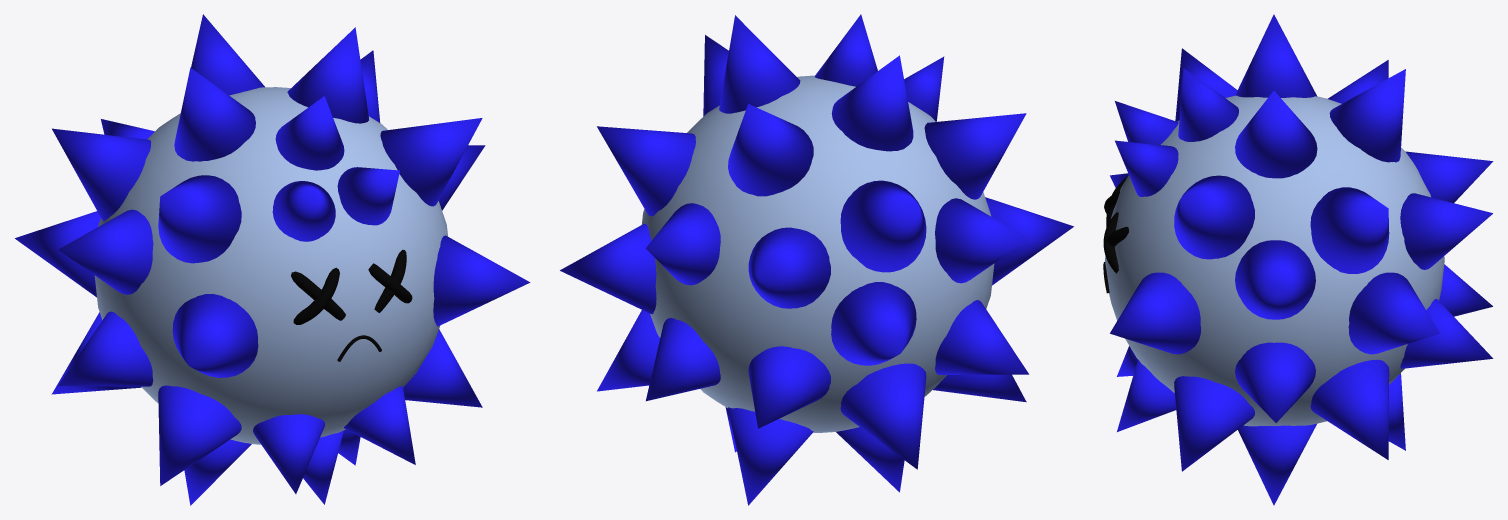
Rendered from bacteria25.gltf.
3 views of the same model, side by side, from view 1: azimuth 30°, elevation 25°; view 2: azimuth 150°, elevation 25°; view 3: azimuth 270°, elevation 25° (orthographic). The views are drawn at different scales.
Visible parts, largest first — view 1: Sphere, Cone.010, Cone.011, Cone, Cone.009, Cone.003, Cone.005, Cone.002, Cone.008, Cone.001, NurbsPath.002, NurbsPath.001 (+3 smaller); view 2: Sphere, Cone.003, Cone.006, Cone.011, Cone, Cone.001, Cone.009, Cone.010, Cone.008, Cone.002; view 3: Sphere, Cone.003, Cone, Cone.010, Cone.006, Cone.011, Cone.009, Cone.001, Cone.002, Cone.008, Cone.005, NurbsPath.004.
Boxes of the visible parts, x1,y1,x2,y2 form: Sphere: (94, 87, 447, 444); Cone.010: (158, 118, 482, 485); Cone.011: (15, 211, 530, 377); Cone: (174, 27, 368, 505); Cone.009: (58, 145, 485, 386); Cone.003: (51, 50, 380, 394); Cone.005: (253, 386, 415, 493); Cone.002: (272, 167, 399, 241); Cone.008: (275, 96, 344, 504); Cone.001: (191, 14, 264, 95); NurbsPath.002: (293, 267, 339, 324); NurbsPath.001: (291, 271, 345, 320); Sphere: (641, 75, 994, 432); Cone.003: (597, 126, 926, 469); Cone.006: (646, 203, 830, 428); Cone.011: (560, 197, 1073, 365); Cone: (719, 15, 913, 492); Cone.001: (728, 104, 813, 505); Cone.009: (935, 198, 1029, 374); Cone.010: (703, 35, 1026, 402); Cone.008: (814, 14, 877, 86); Cone.002: (904, 56, 944, 121); Sphere: (1105, 95, 1444, 426); Cone.003: (1310, 60, 1389, 459); Cone: (1235, 14, 1317, 505); Cone.010: (1174, 48, 1254, 471); Cone.006: (1400, 151, 1493, 368); Cone.011: (1110, 173, 1439, 354); Cone.009: (1235, 240, 1315, 422); Cone.001: (1329, 69, 1405, 450); Cone.002: (1115, 101, 1178, 196); Cone.008: (1178, 68, 1238, 141); Cone.005: (1117, 346, 1176, 431); NurbsPath.004: (1103, 212, 1118, 273).
Bounding box in the file's own units: 2.75 × 2.7 × 2.3.
